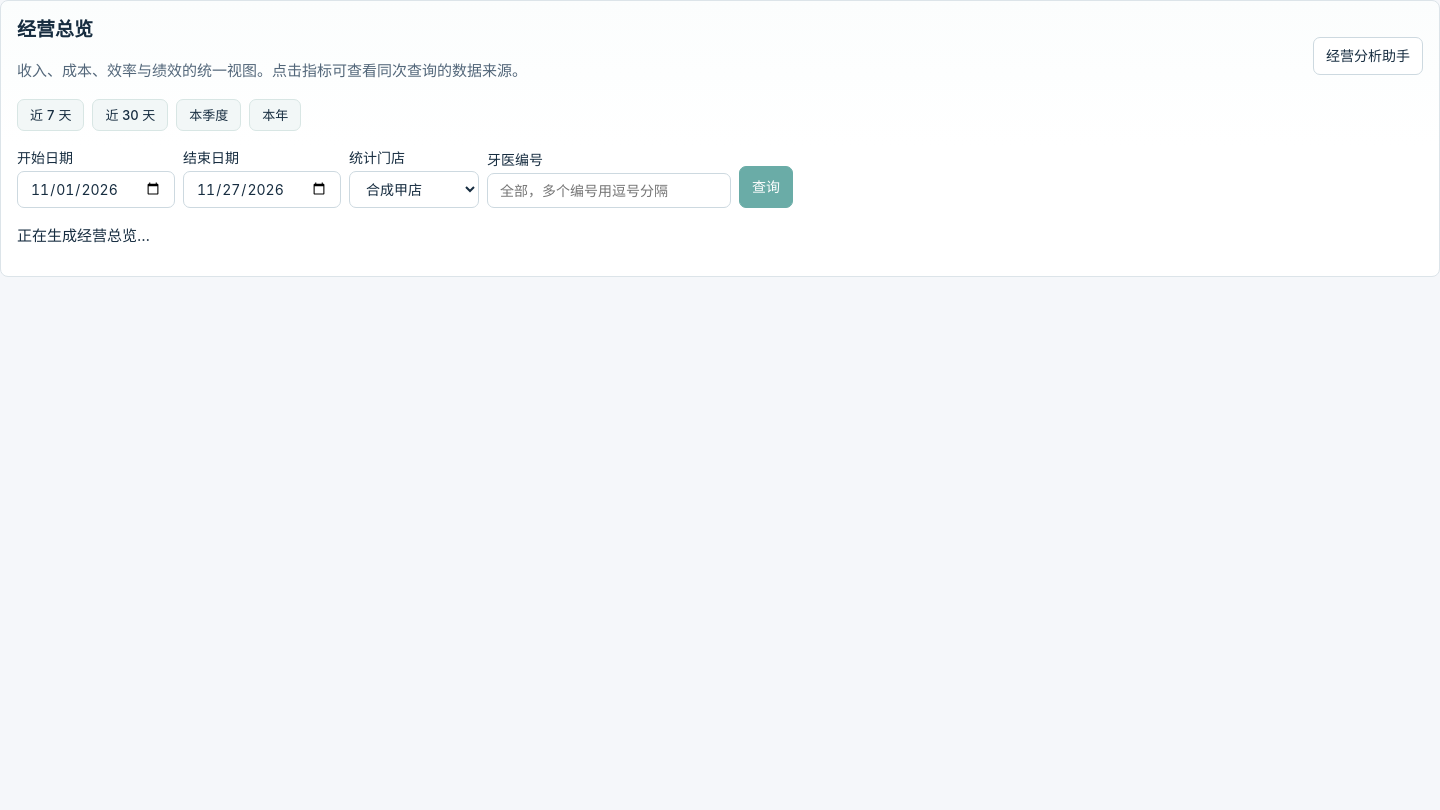
Scenario: suggested follow-up opens eligible comparison-period details
Click the button "经营分析助手" at [1368, 56], box left=1313, top=37, right=1423, bottom=75
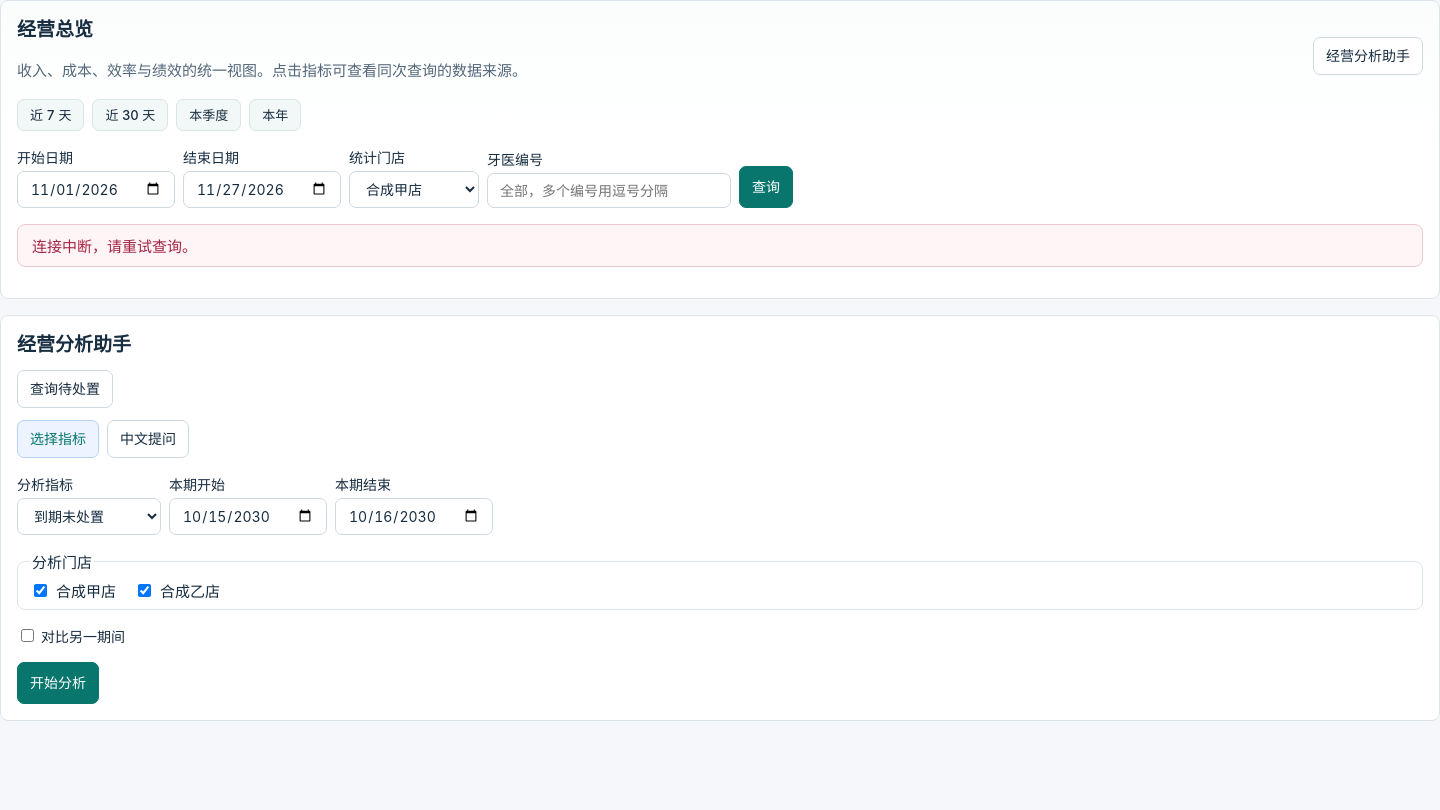
Expected: the button "查询待处置" is shown, left=17, top=370, right=113, bottom=408
Click the button "开始分析" at [58, 683], box left=17, top=662, right=99, bottom=704
(page scrolled)
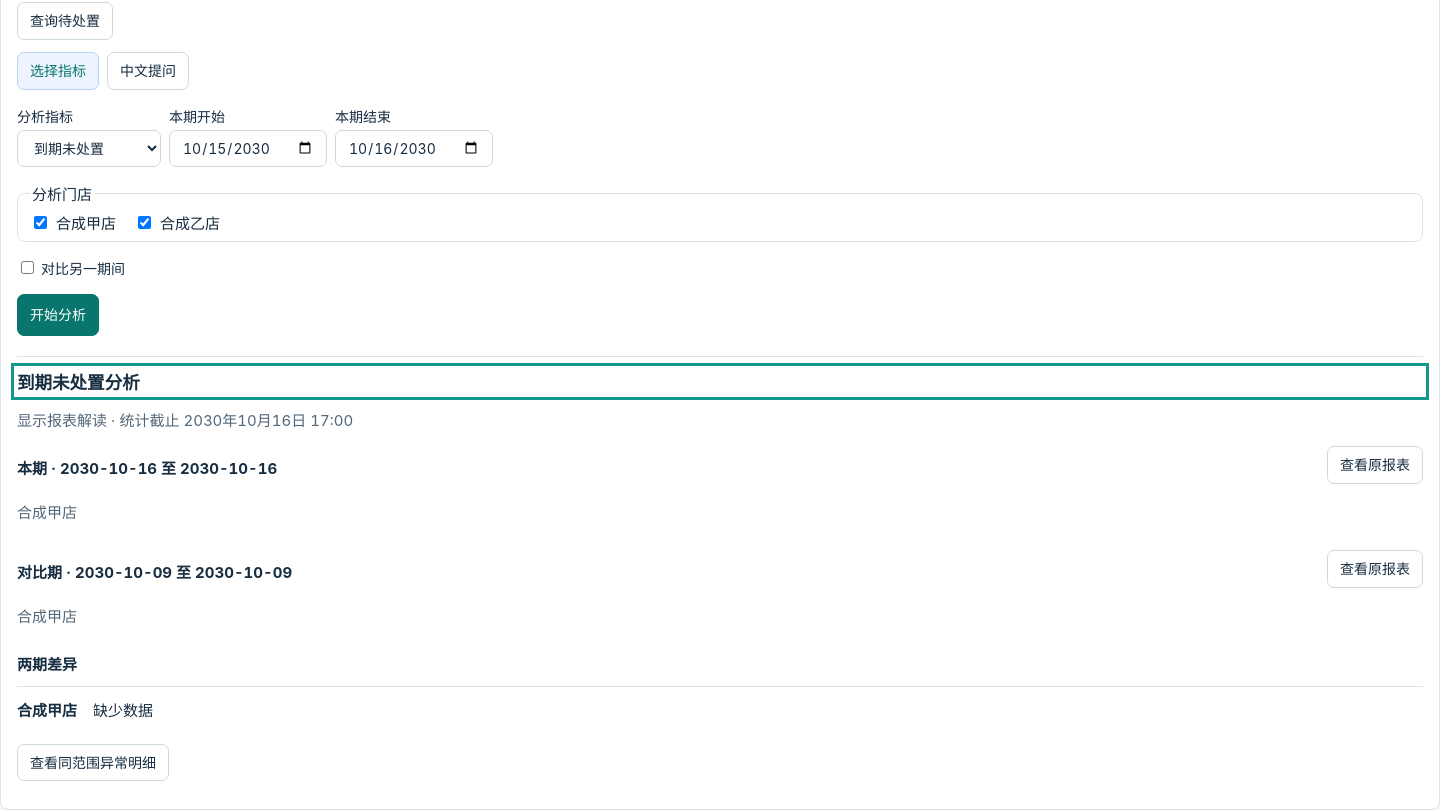
Expected: the text "缺少数据" is shown, left=93, top=699, right=153, bottom=720
Click the button "查看同范围异常明细" at [93, 762], box left=17, top=744, right=169, bottom=781
(page scrolled)
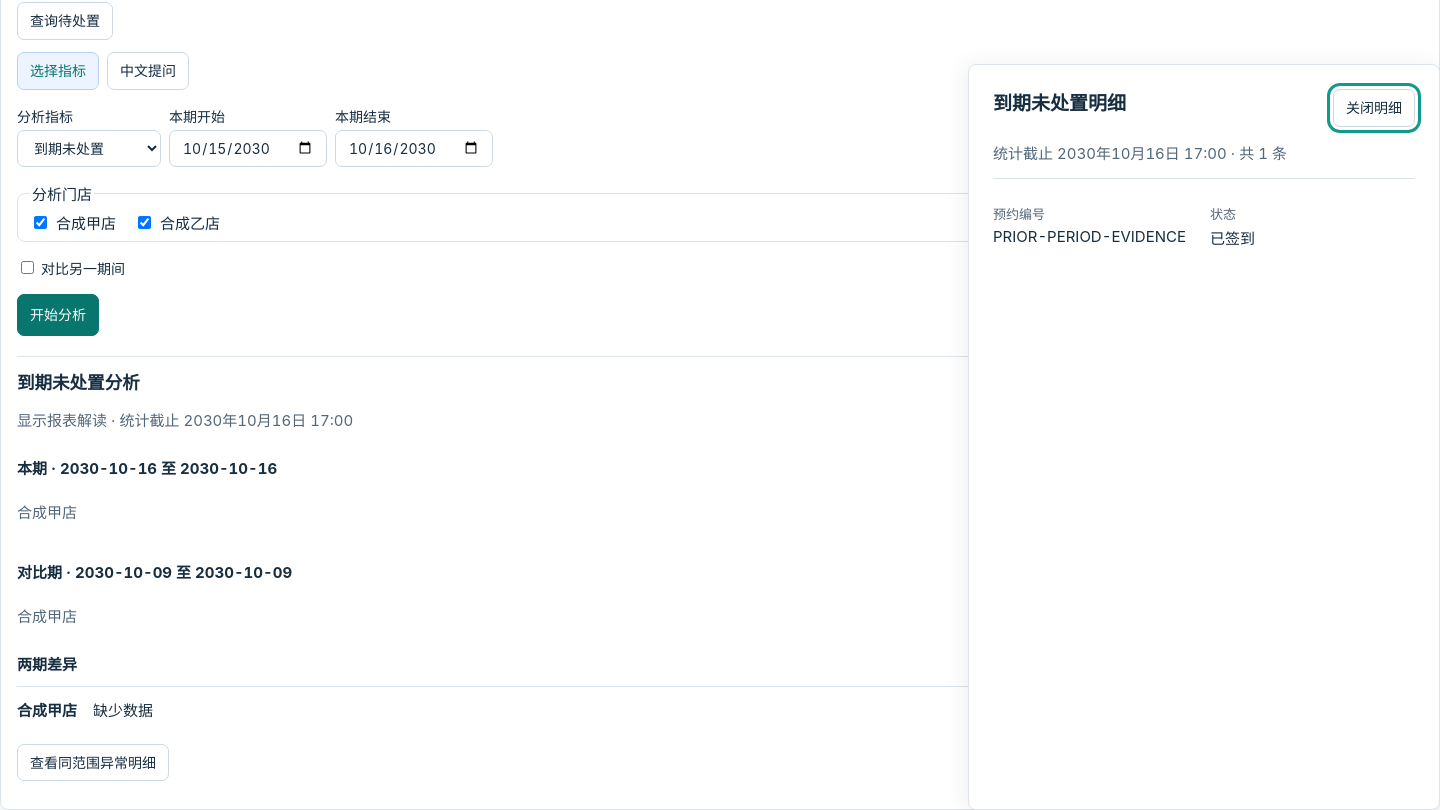
Expected: the text "PRIOR-PERIOD-EVIDENCE" is shown, left=993, top=227, right=1198, bottom=246
